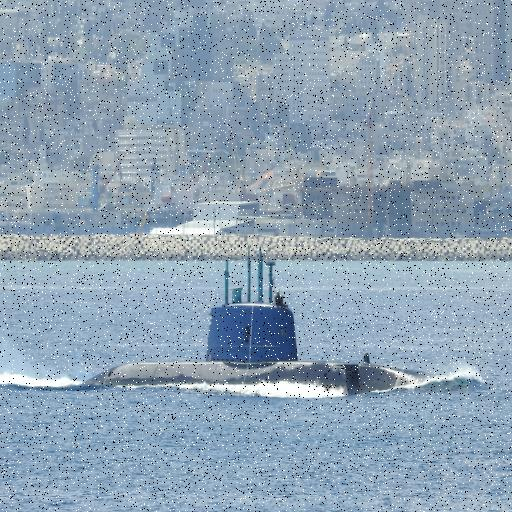submarine: (75, 245, 427, 391)
